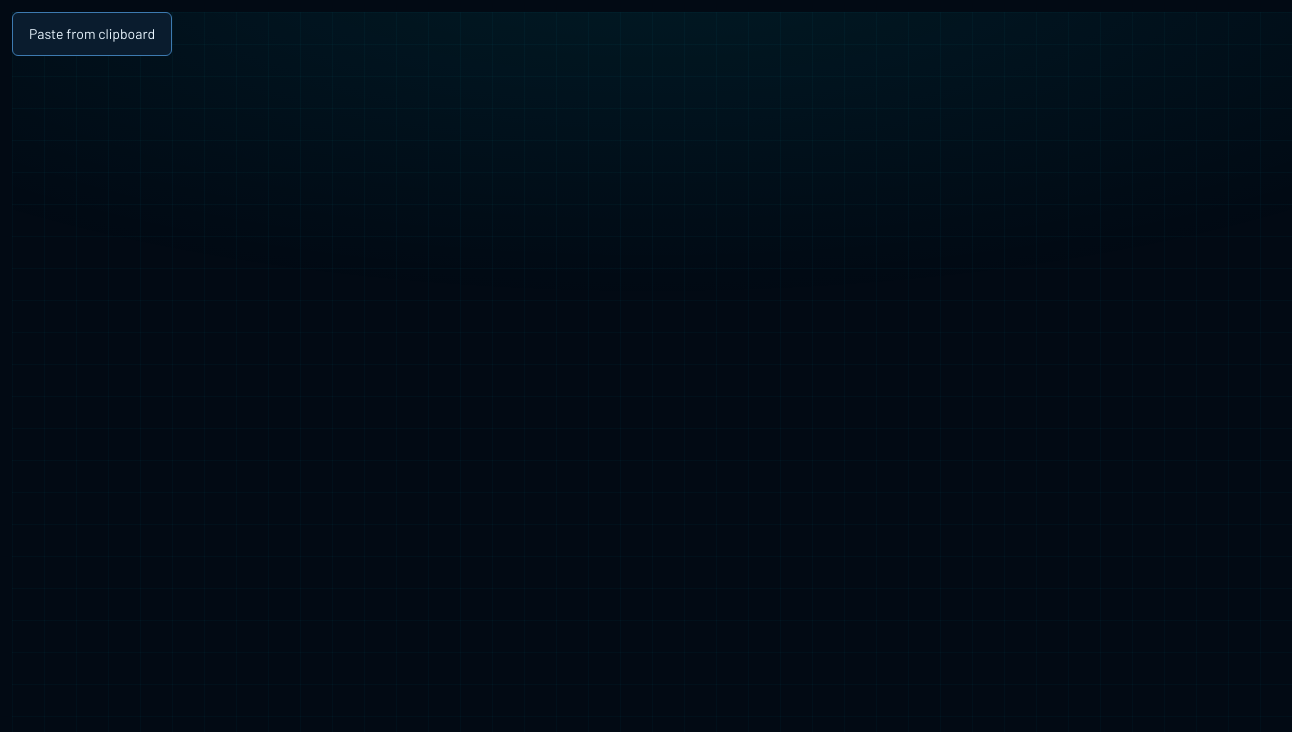
it: PasteFromClipboardButton › is busy while a read is in flight and cannot be double-clicked
Step 1. Click the button "Paste from clipboard" → coordinates (92, 34), box x1=12 y1=12 x2=172 y2=56
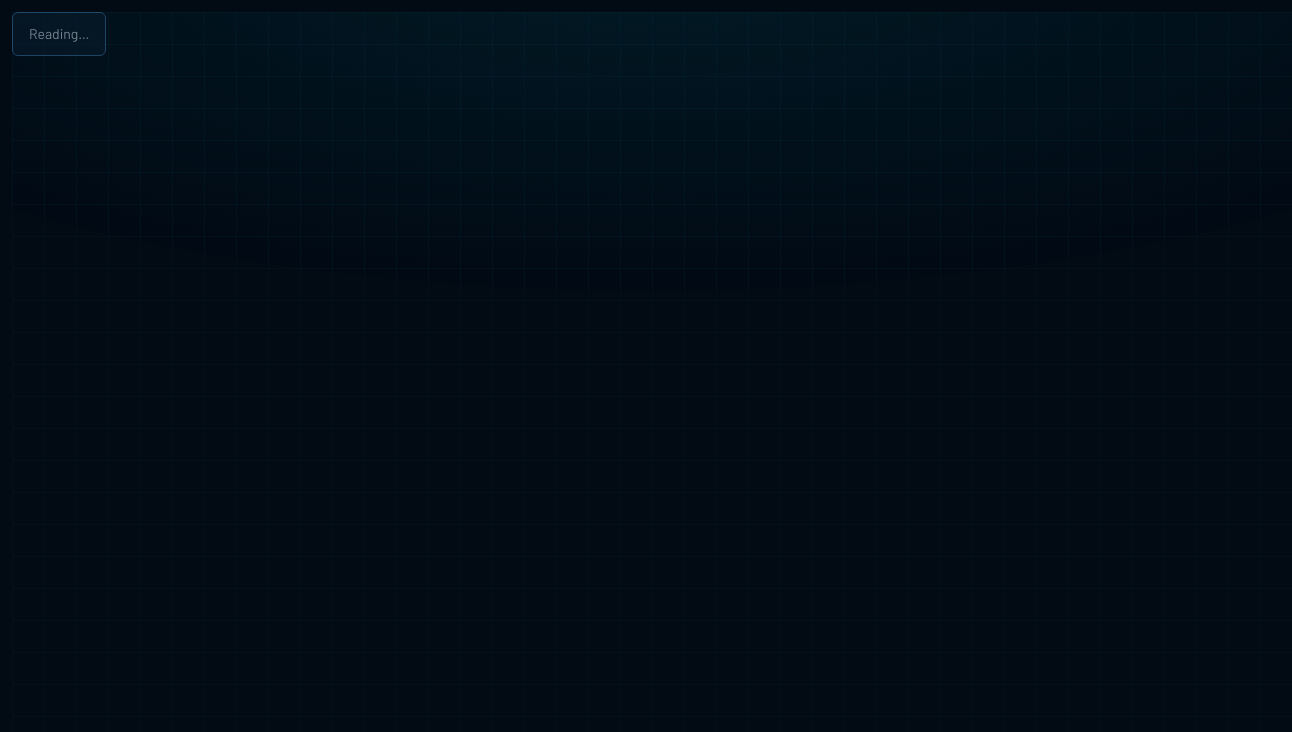
Now the button with aria-label "Paste from clipboard" is disabled
Now the button with aria-label "Paste from clipboard" reads "Reading…"
Step 2. Click the button with aria-label "Paste from clipboard" → coordinates (59, 34), box x1=12 y1=12 x2=106 y2=56
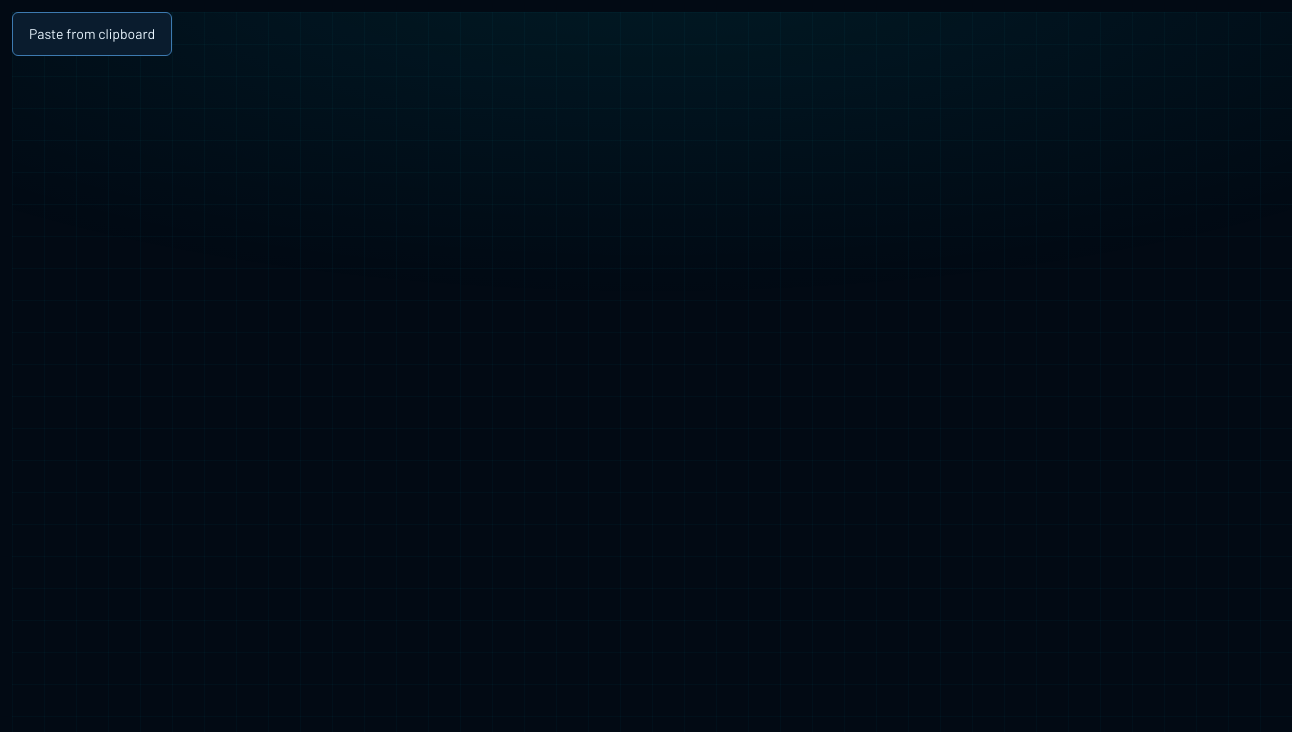
Now the button "Paste from clipboard" is enabled, box x1=12 y1=12 x2=172 y2=56
